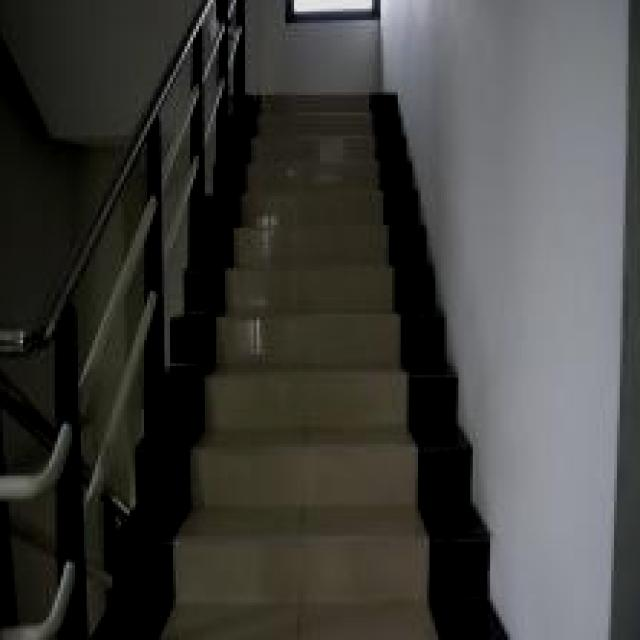upstair: (229, 76, 456, 640)
